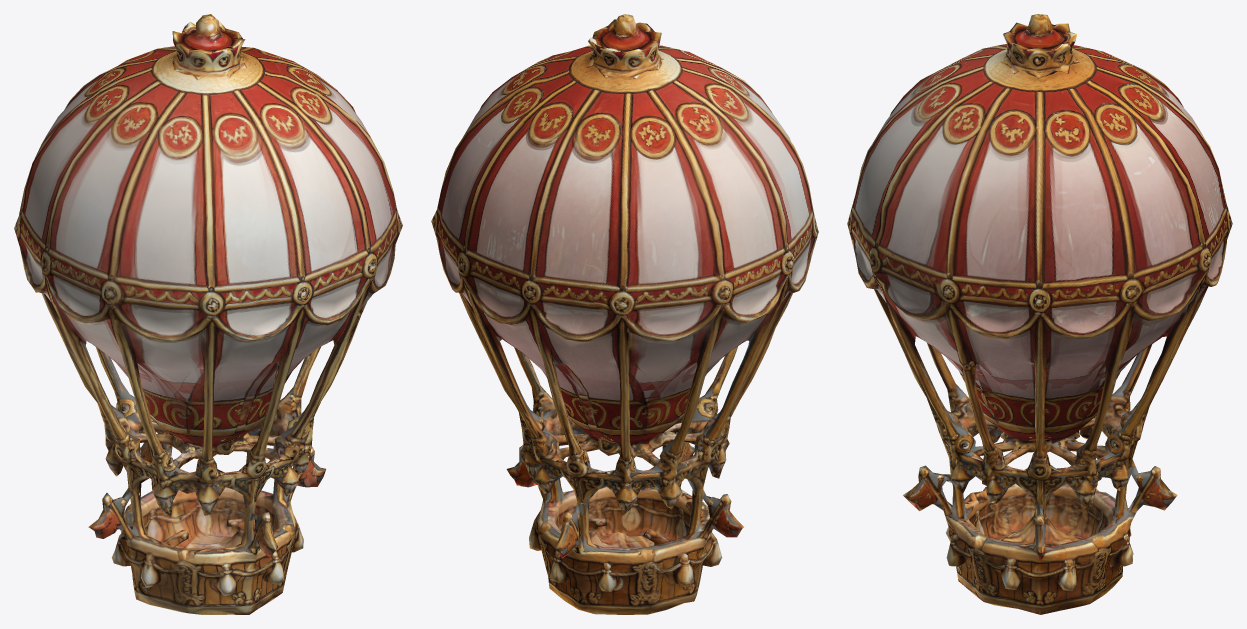
3 views of the same model, side by side, from view 1: azimuth 30°, elevation 25°; view 2: azimuth 150°, elevation 25°; view 3: azimuth 270°, elevation 25° (orthographic).
Parts seen in each view (by area): view 1: texture_mapping; view 2: texture_mapping; view 3: texture_mapping.
Part boxes in pixels (x1,y1,x2,y2): texture_mapping: (14,14,402,614); texture_mapping: (431,14,818,614); texture_mapping: (847,14,1232,614).
Bounding box in the file's own units: 0.617 × 1 × 0.618.
1 material, 1 textured.
